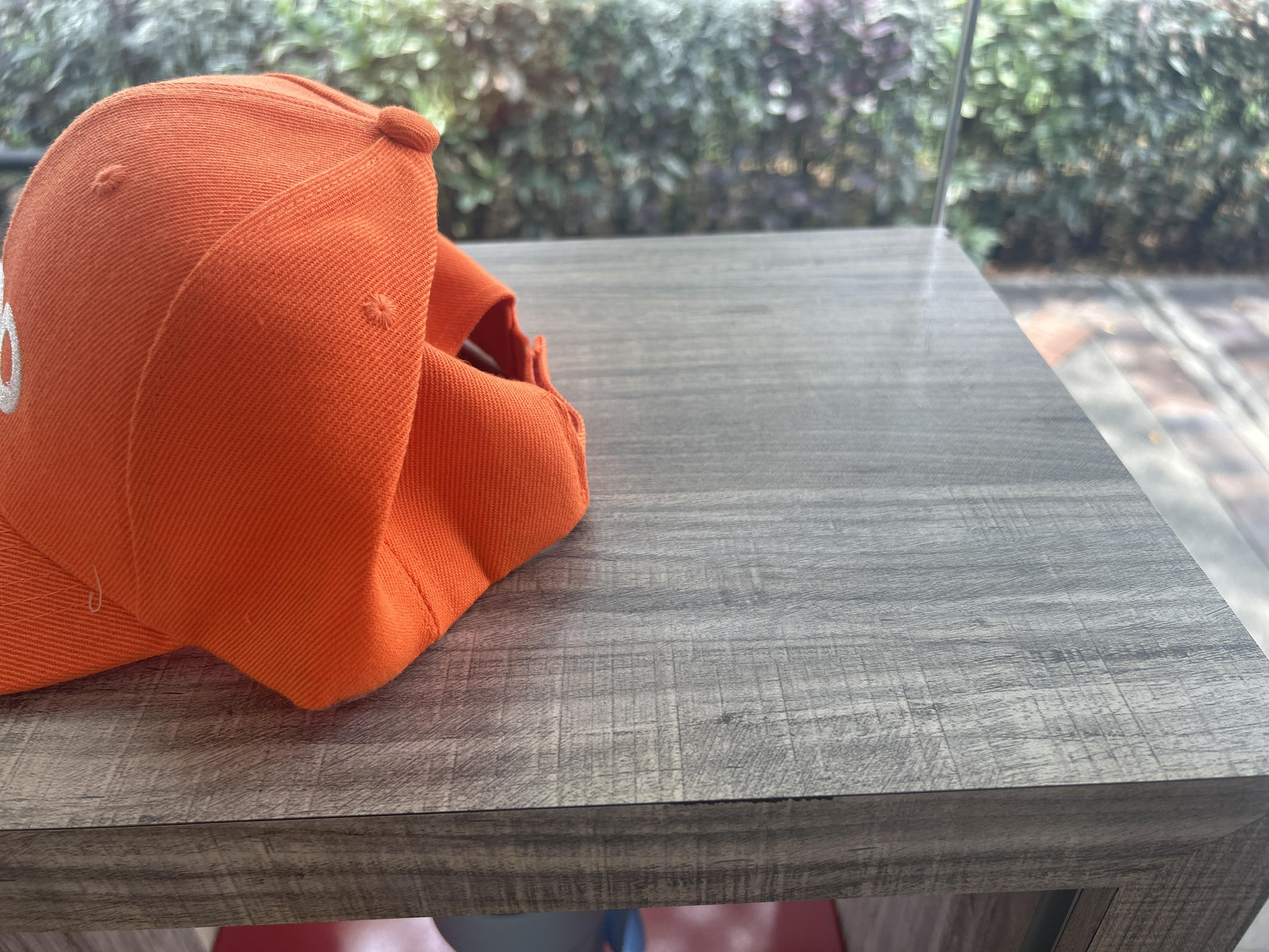gorra: (0, 75, 589, 708)
